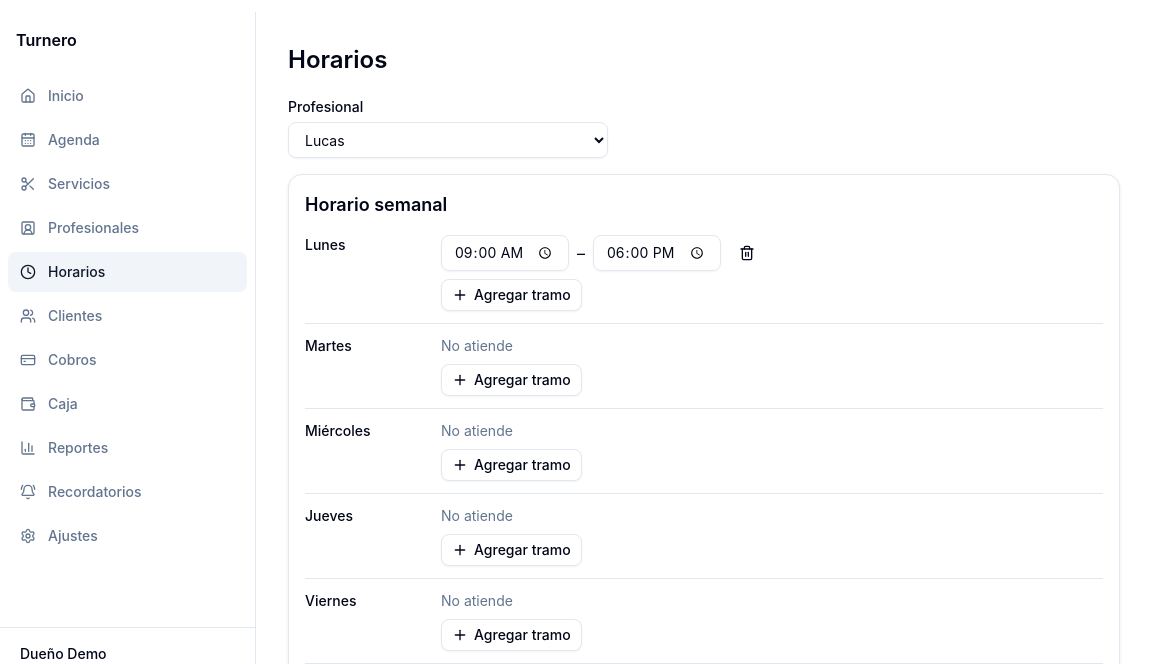
Test case: schedules page: weekly hours › refuses overlapping blocks and inverted ones before calling the API
Click the button "Agregar tramo" below "Lunes" at (511, 295), box [441, 279, 582, 311]
(page scrolled)
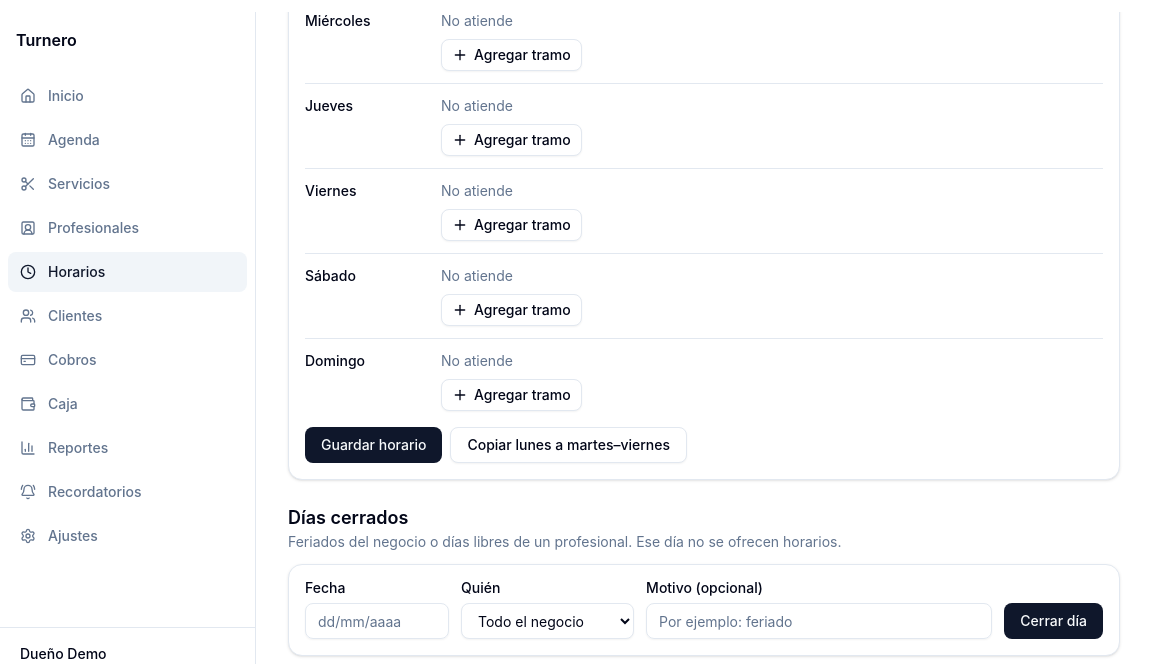
Click the button "Guardar horario" at (374, 445), box [305, 427, 442, 463]
(page scrolled)
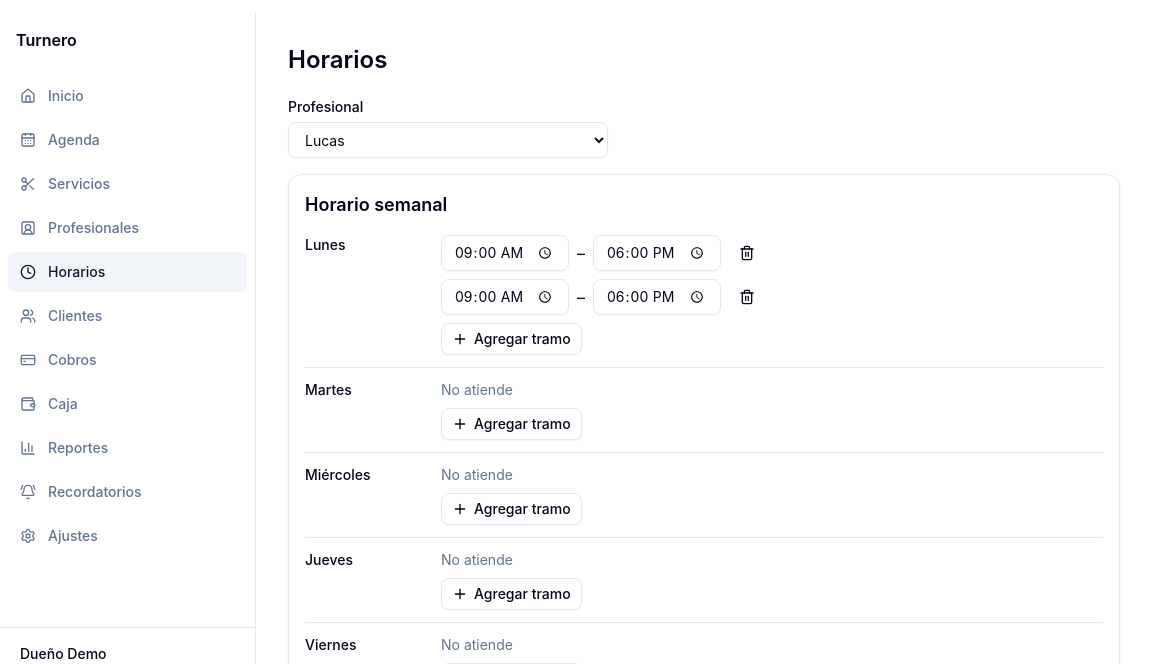
Replace the text in the time field named "Lunes, tramo 2: Desde" with "20:00" at (505, 297), box [441, 279, 569, 315]
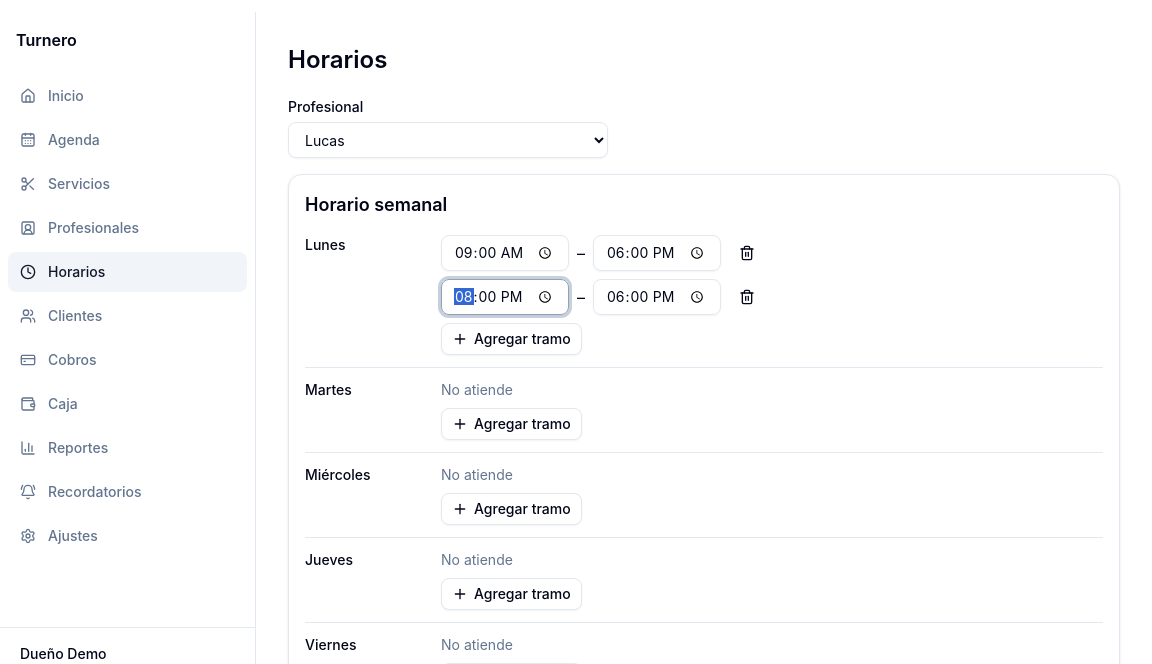
Replace the text in the time field named "Lunes, tramo 2: Hasta" with "19:00" at (657, 297), box [593, 279, 721, 315]
(page scrolled)
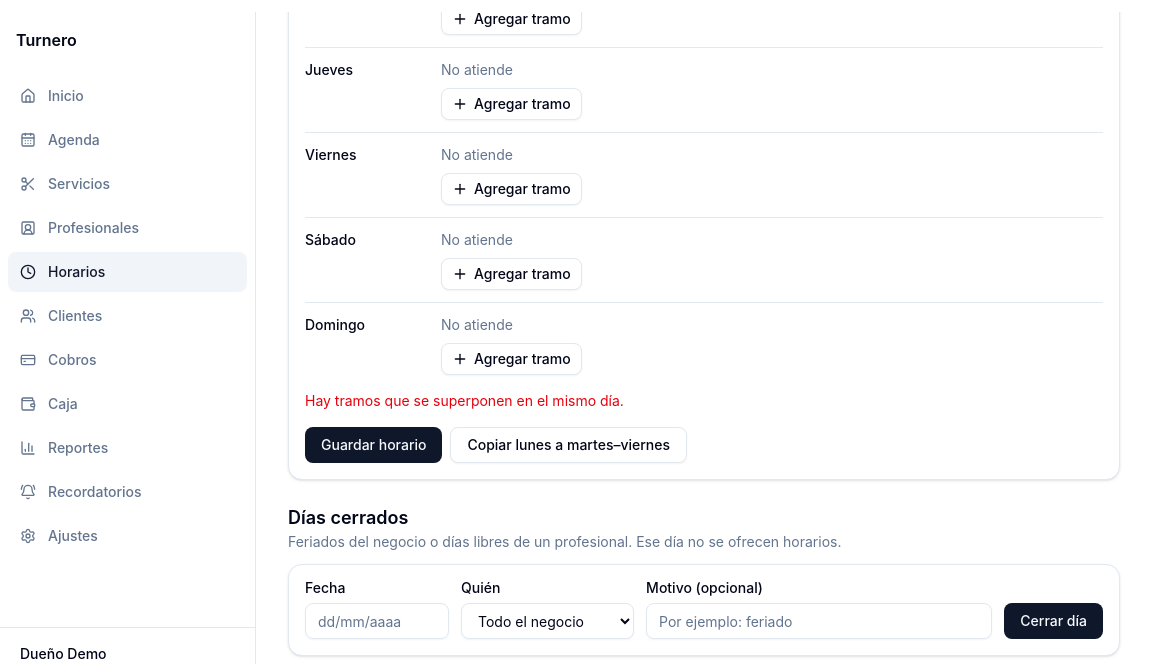
Click the button "Guardar horario" at (374, 445), box [305, 427, 442, 463]
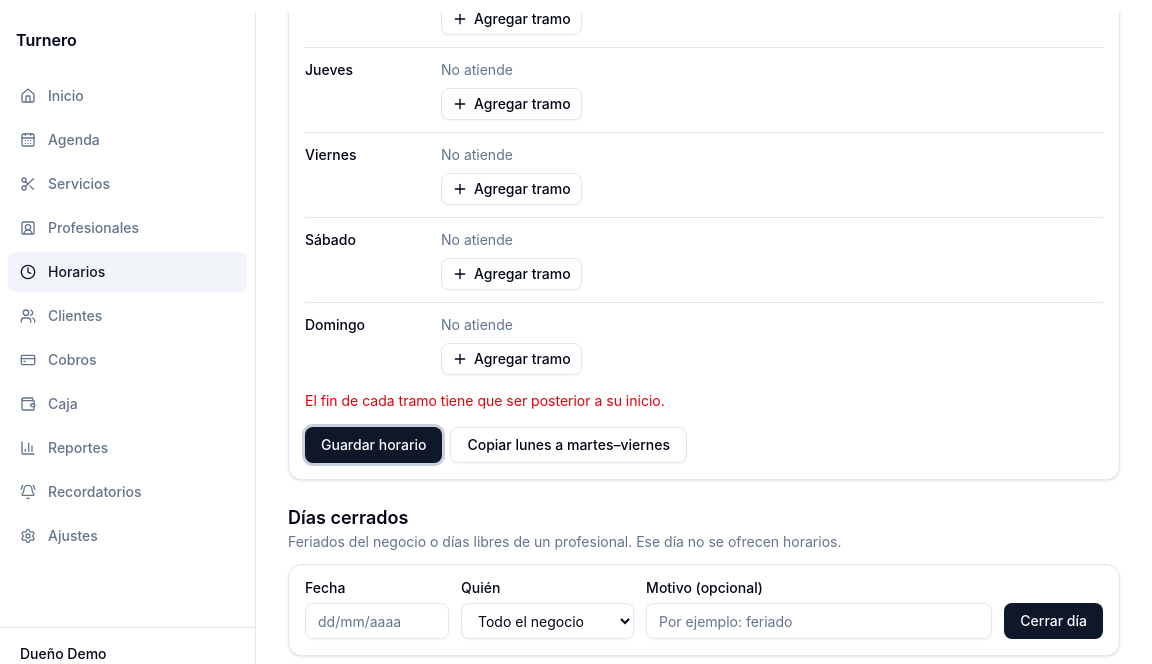
Expected: the text "El fin de cada tramo tiene que ser posterior a su inicio." is shown, [305, 392, 665, 409]
